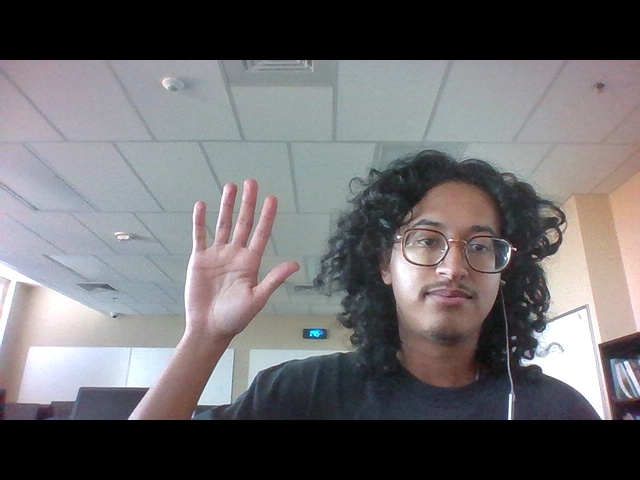hello: (177, 177, 306, 341)
